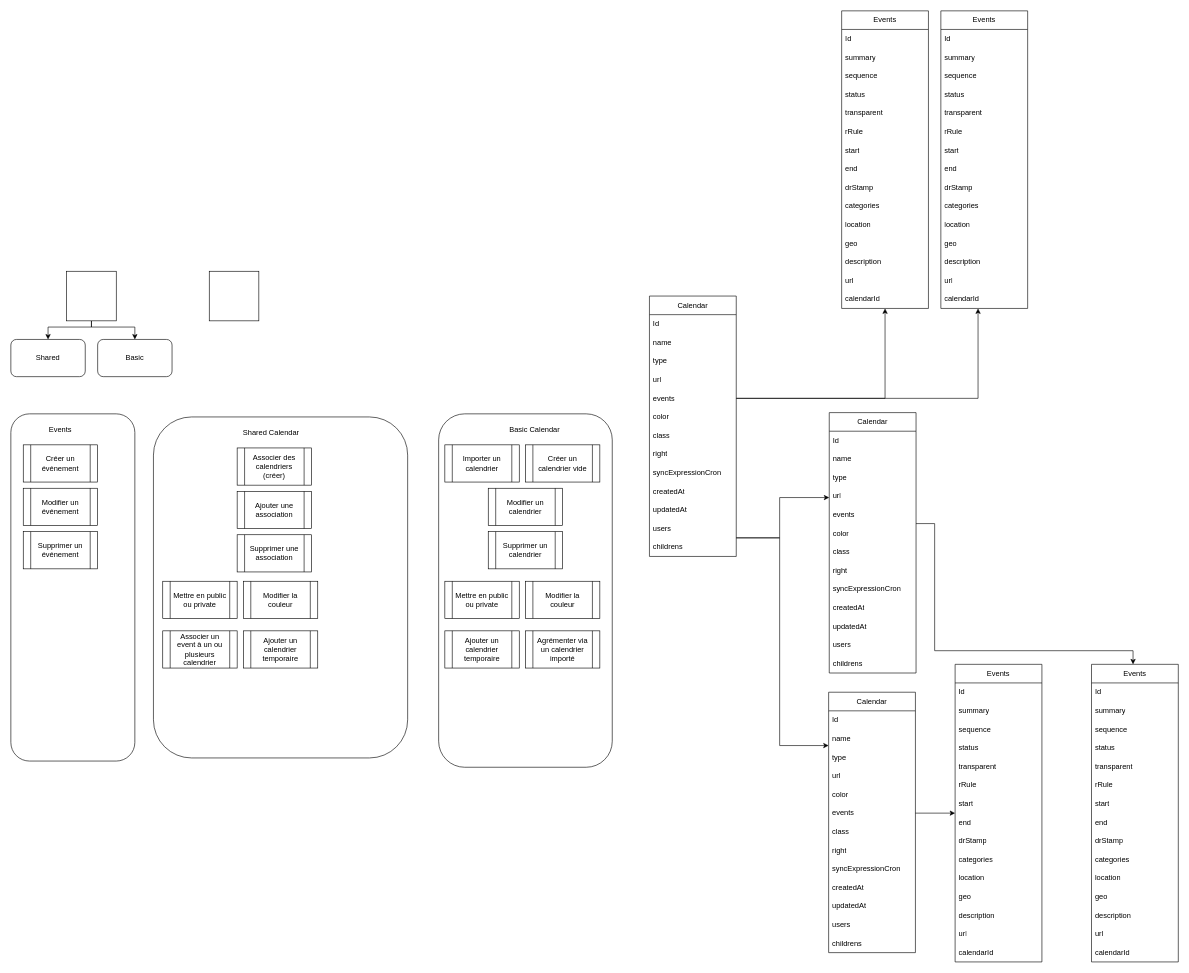
Some shapes in this 1189 by 973 pixel diagram are drawn without their labels. The centre of each missing label's shape, as x and y in pixels:
Calendrier: the point at 91,296
Event: the point at 234,296
